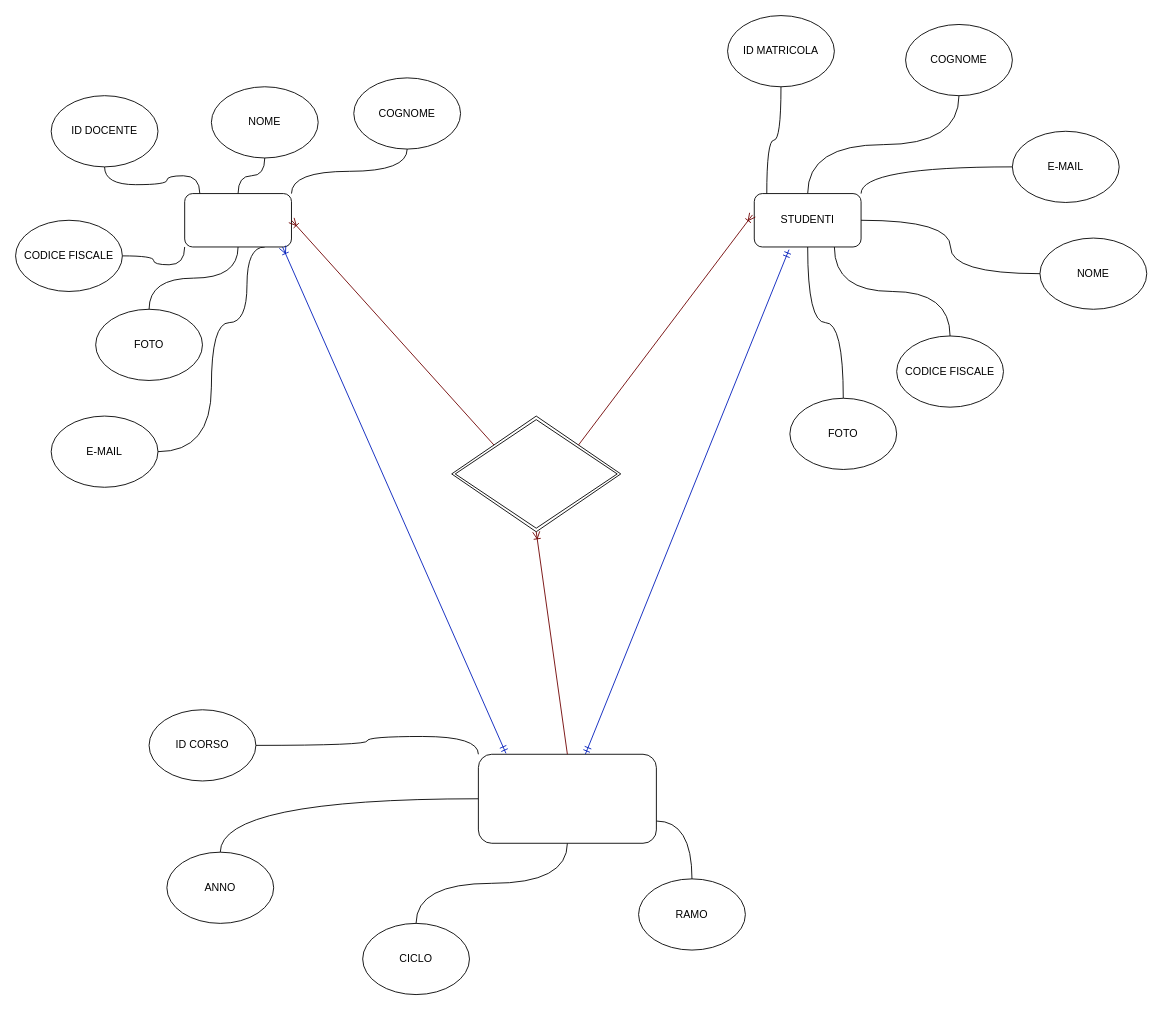
This 1162x1010 diagram has some shape labels left out. The centre of each missing label's shape, as x and y in pixels:
"CORSI" belongs at point 566,798.
"DOCENTI" belongs at point 237,220.
"EVENTI" belongs at point 536,473.
